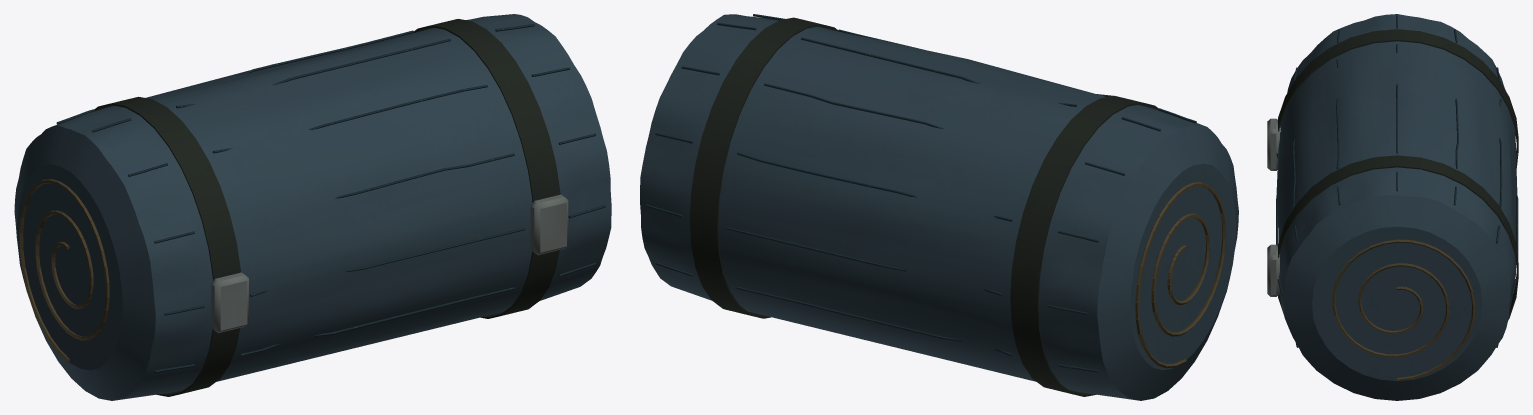
File: level_camp_bedroll_rolled_tailored.glb
The picture shows the model from 3 angles, left to right: view 1: azimuth 30°, elevation 25°; view 2: azimuth 150°, elevation 25°; view 3: azimuth 270°, elevation 25°; orthographic projection. The views are drawn at different scales.
Visible parts, largest first — view 1: level_camp_bedroll_rolled_tailored; view 2: level_camp_bedroll_rolled_tailored; view 3: level_camp_bedroll_rolled_tailored.
Boxes of the visible parts, x1,y1,x2,y2 form: level_camp_bedroll_rolled_tailored: [14, 14, 611, 400]; level_camp_bedroll_rolled_tailored: [640, 14, 1238, 400]; level_camp_bedroll_rolled_tailored: [1267, 14, 1518, 400].
Size of the model in its own units: 0.649 by 0.342 by 0.354.
Materials: 2 (2 with a texture image).
